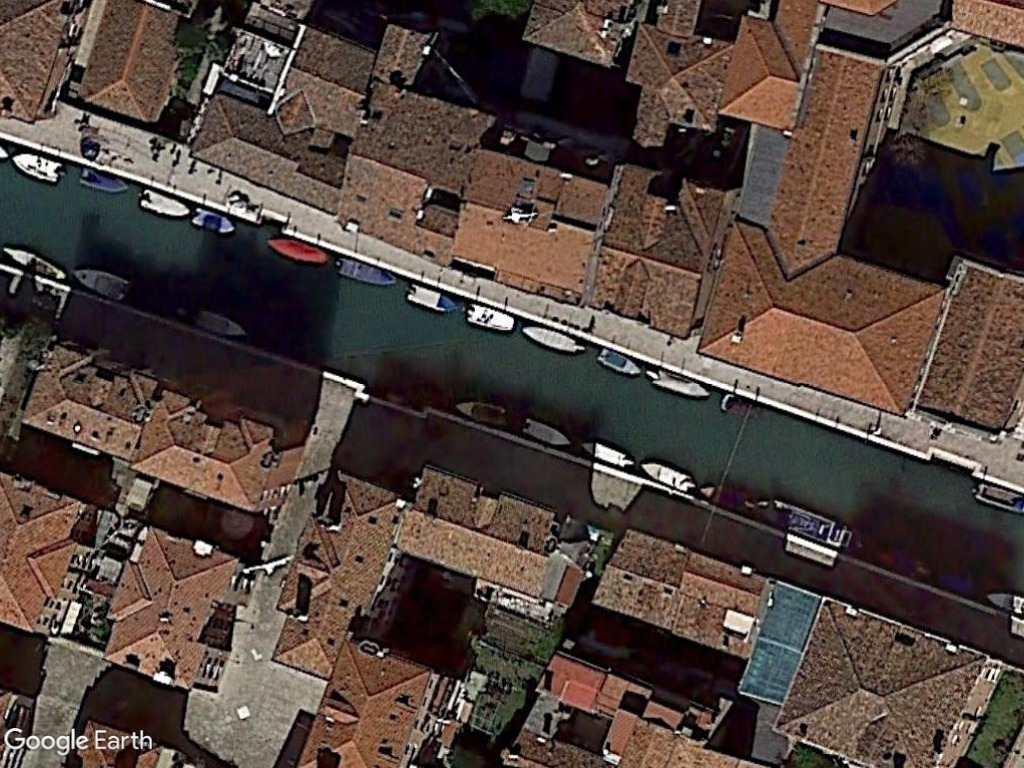boat: (520, 319, 587, 360), (644, 364, 713, 403), (7, 146, 67, 188), (69, 267, 134, 304), (261, 236, 331, 269), (404, 280, 464, 317), (638, 459, 698, 496), (333, 255, 398, 289), (454, 395, 513, 432), (191, 307, 250, 343), (463, 298, 518, 335), (521, 414, 575, 451), (75, 164, 132, 197), (136, 186, 191, 220), (594, 343, 642, 380), (187, 205, 238, 235)
